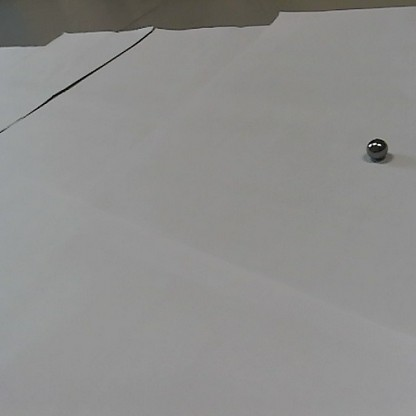ironball: (364, 136, 389, 163)
